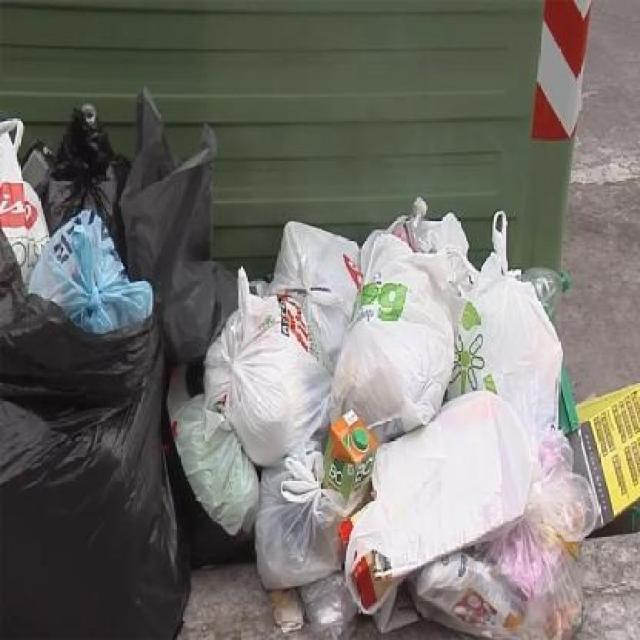garbage: (183, 217, 577, 640), (0, 119, 182, 640), (560, 390, 639, 539)
